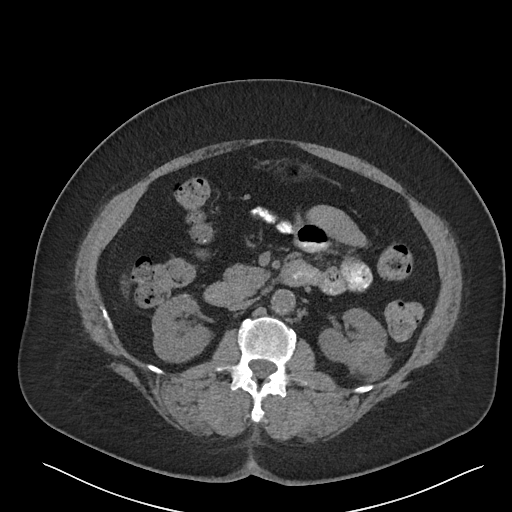Lesion: (345, 341, 394, 381)
